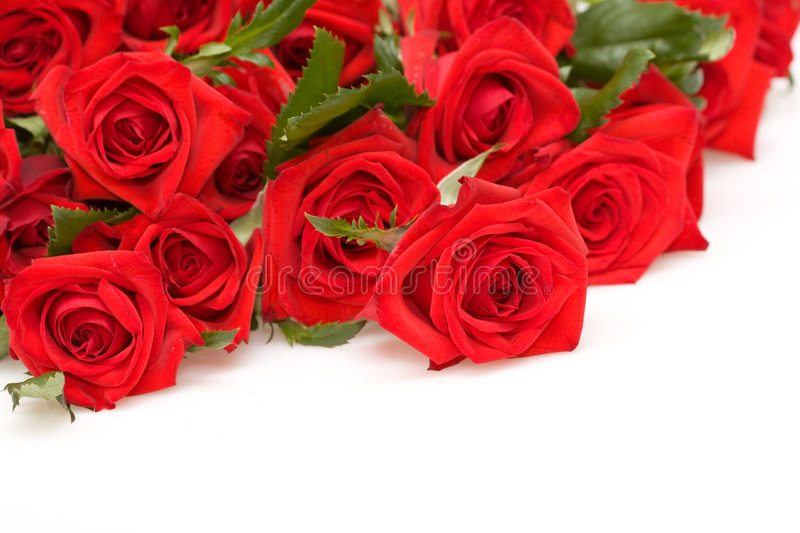RedRose: (541, 89, 716, 279), (34, 56, 259, 203), (419, 188, 584, 351), (278, 128, 414, 325), (14, 248, 183, 396), (406, 25, 555, 179), (114, 219, 259, 345), (0, 6, 93, 111), (117, 9, 263, 57)
